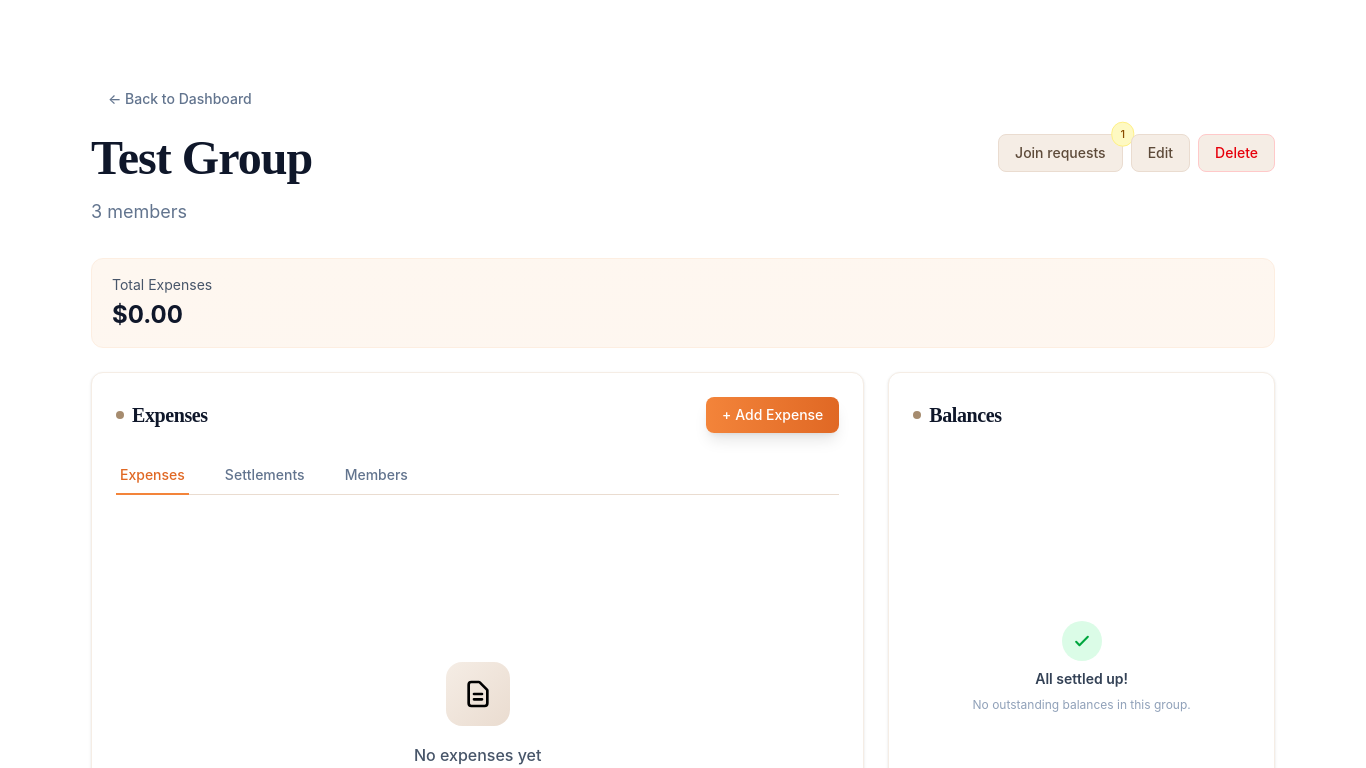
it: GroupDetailPage › Settlement History › renders settlements from the API
What coordinates should you click on to do the following:
click the tab "Settlements"
I would click on:
 (265, 476)
Its box is [221,457,309,495].
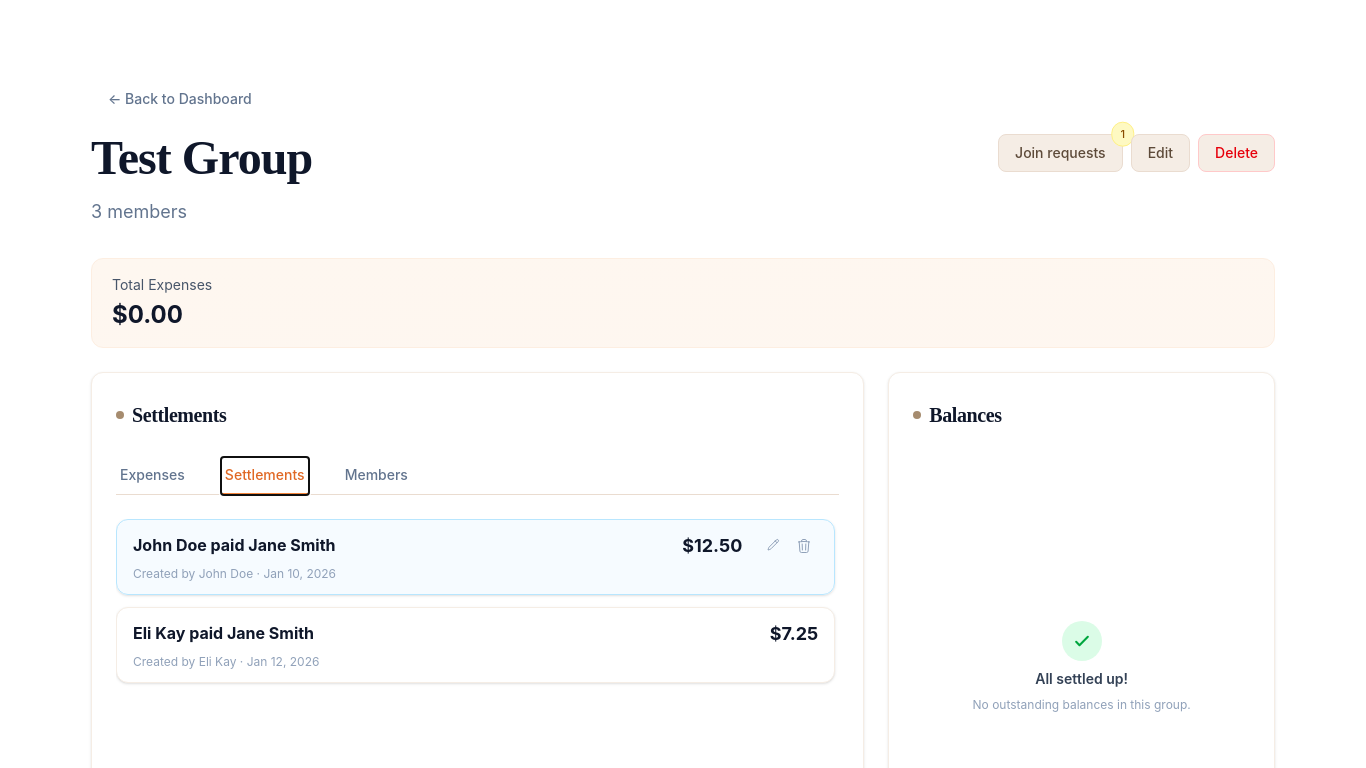
Expected: the text "John Doe paid Jane Smith" is shown, [133,532,336,558]
Expected: the text "Eli Kay paid Jane Smith" is shown, [133,620,314,646]
